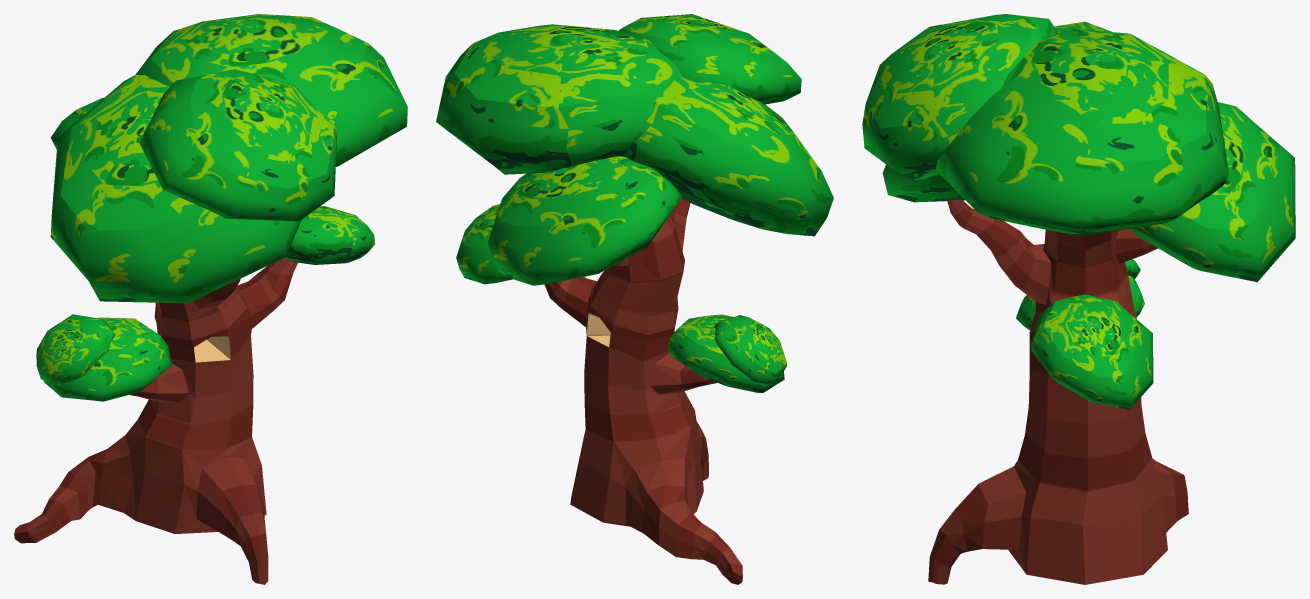
Rendered from Gigand Tree.fbx.
3 renders of one model, left to right at view 1: azimuth 30°, elevation 25°; view 2: azimuth 150°, elevation 25°; view 3: azimuth 270°, elevation 25°, orthographic. The views are drawn at different scales.
Parts seen in each view (by area): view 1: Hojas Grandes, Cylinder003; view 2: Hojas Grandes, Cylinder003; view 3: Hojas Grandes, Cylinder003.
Part boxes in pixels (x1,y1,x2,y2): Hojas Grandes: (36,14,407,401); Cylinder003: (14,258,297,584); Hojas Grandes: (436,14,833,392); Cylinder003: (544,198,742,584); Hojas Grandes: (862,14,1295,409); Cylinder003: (928,200,1188,584).
Bounding box in the file's own units: 517 × 685 × 478.
